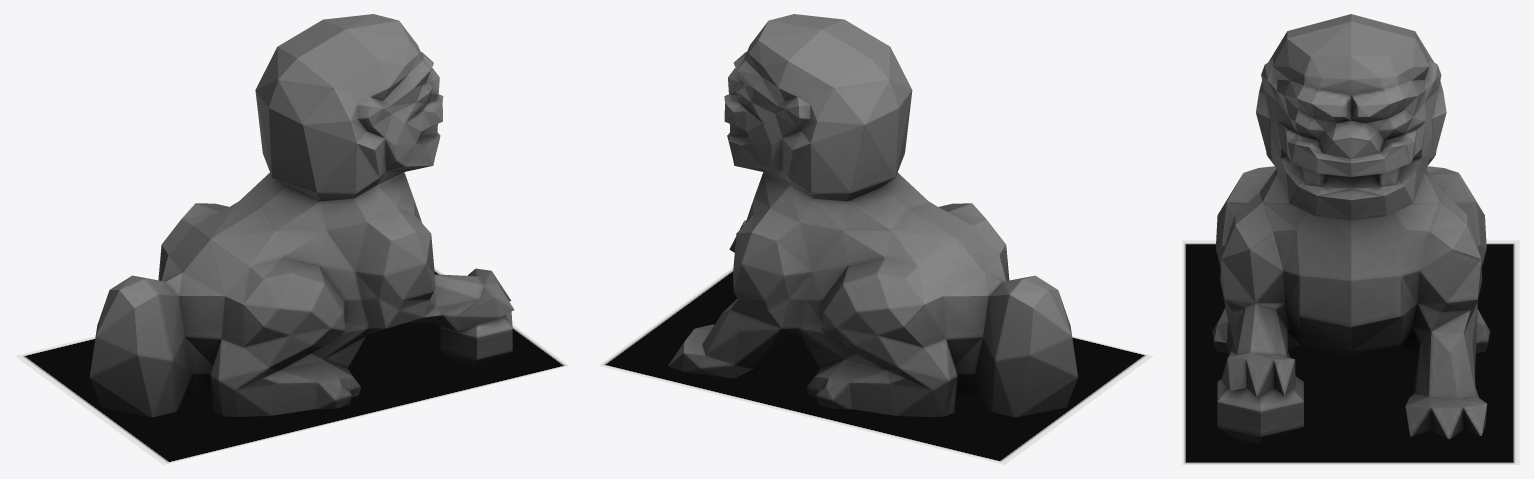
The model's file is 3x2_lion.FBX.
The picture shows the model from 3 angles, left to right: view 1: azimuth 30°, elevation 25°; view 2: azimuth 150°, elevation 25°; view 3: azimuth 270°, elevation 25°; orthographic projection. The views are drawn at different scales.
Visible parts, largest first — view 1: 3x2_lion, 3x2_lion_soft_shadow; view 2: 3x2_lion, 3x2_lion_soft_shadow; view 3: 3x2_lion, 3x2_lion_soft_shadow.
Part boxes in pixels (x1=…): 3x2_lion: x1=89, y1=14, x2=514, y2=417; 3x2_lion_soft_shadow: x1=15, y1=267, x2=569, y2=464; 3x2_lion: x1=668, y1=14, x2=1078, y2=417; 3x2_lion_soft_shadow: x1=598, y1=267, x2=1152, y2=464; 3x2_lion: x1=1212, y1=14, x2=1490, y2=444; 3x2_lion_soft_shadow: x1=1182, y1=240, x2=1519, y2=464.
Bounding box in the file's own units: 3347 × 2522 × 2124.
